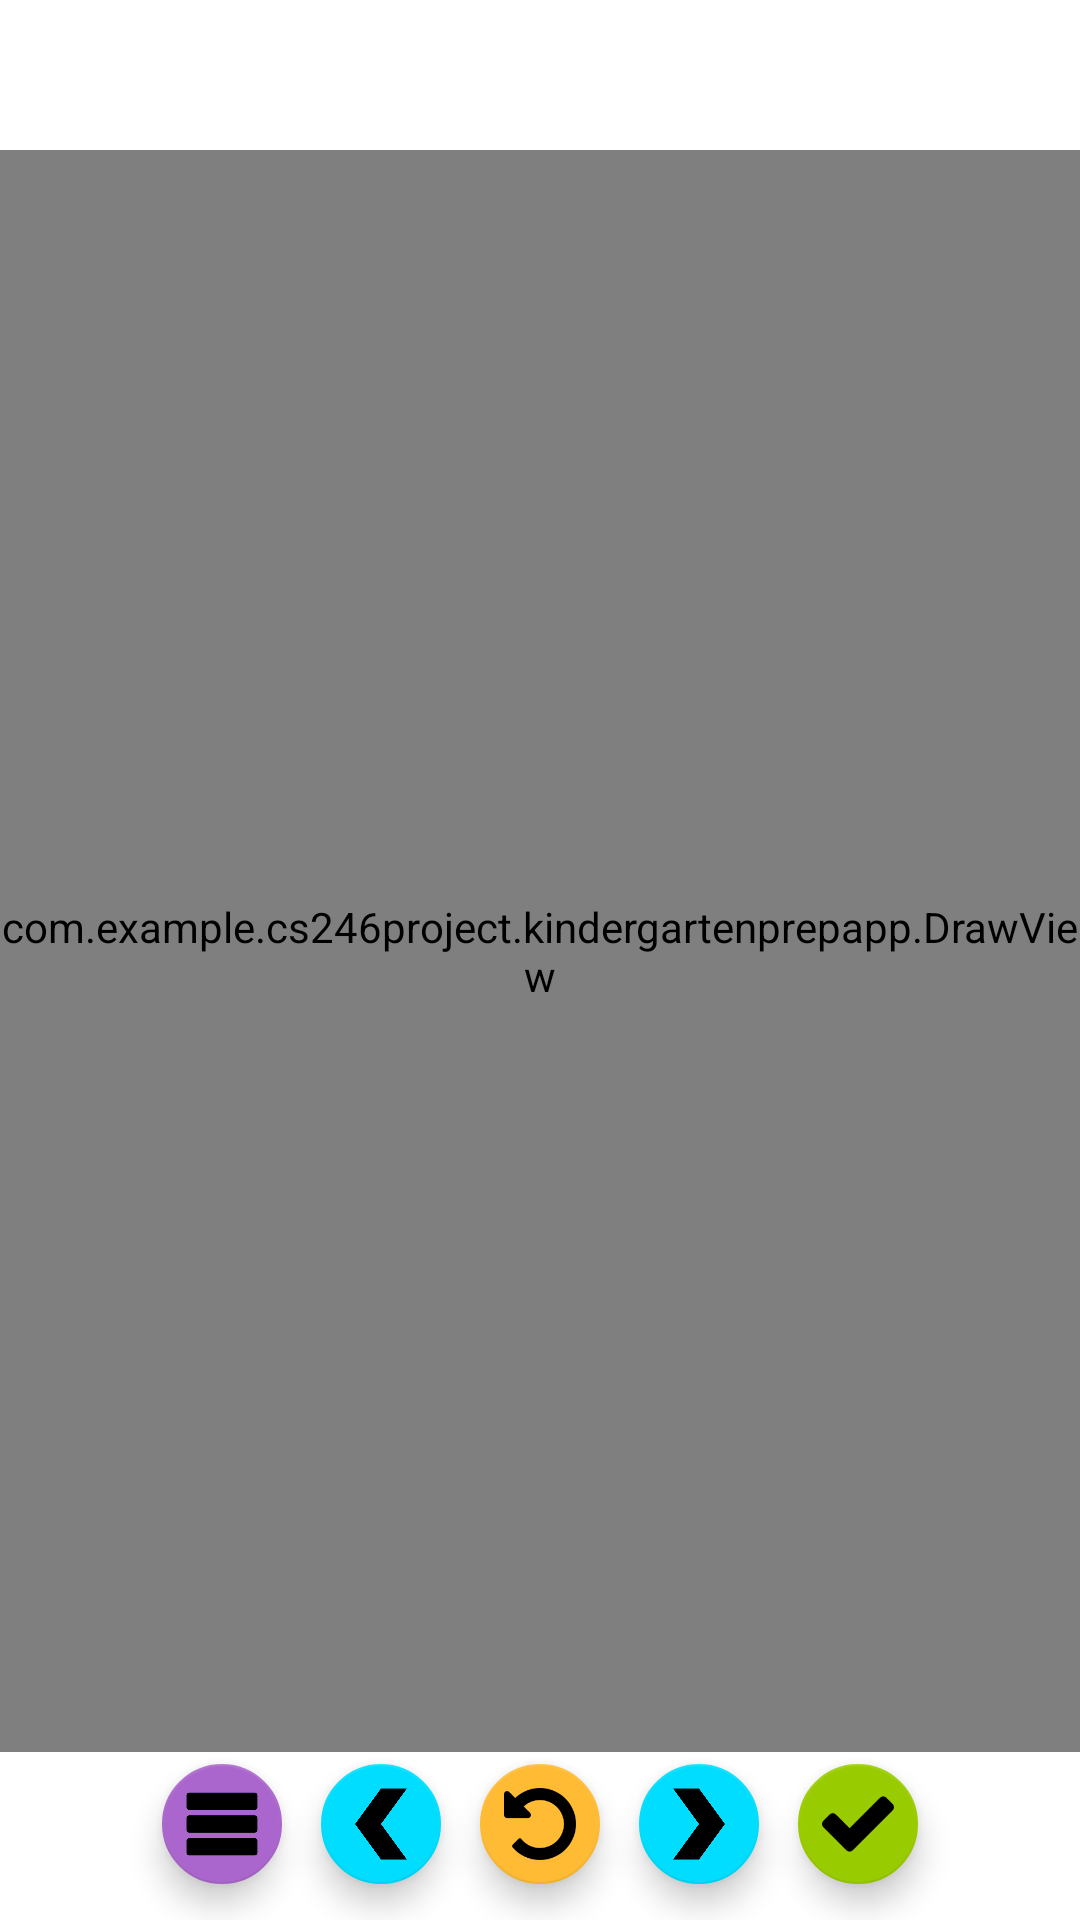

Icons on this 1080*1920 Android screen, each with the point to tap as point (x, y):
arrow left: point (381, 1830)
arrow right: point (699, 1830)
check: point (859, 1830)
clear: point (540, 1830)
menu: point (221, 1830)
